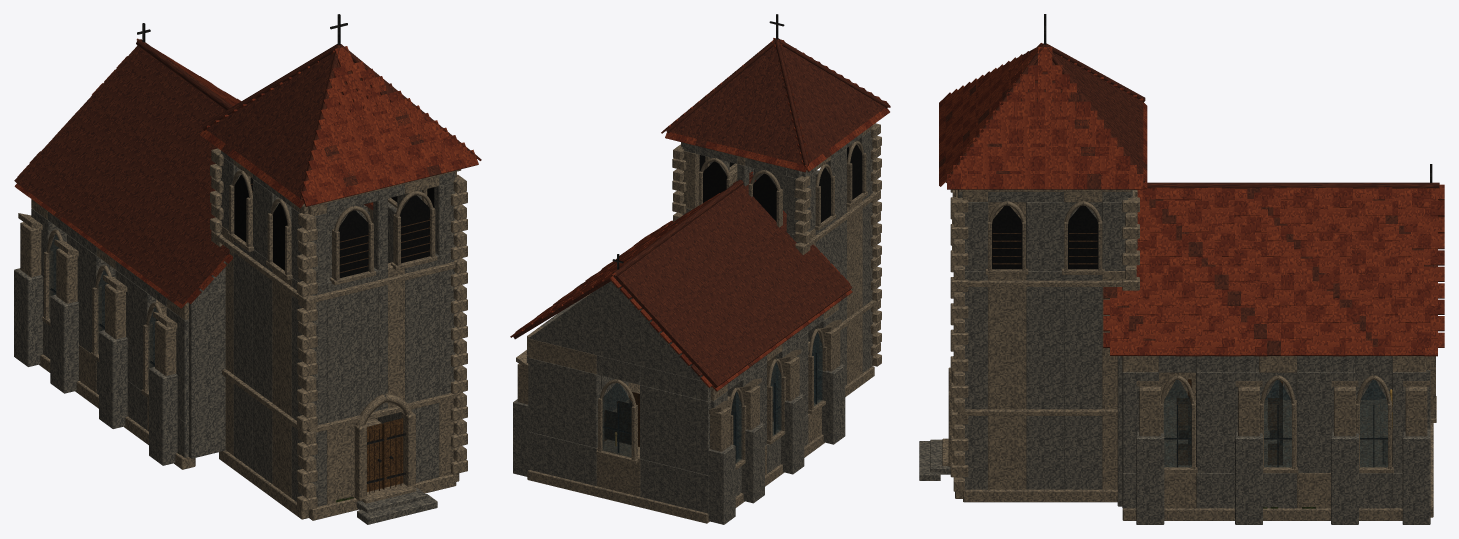
The model's file is medieval_village_church_3d_runtime.glb.
The picture shows the model from 3 angles, left to right: view 1: azimuth 30°, elevation 25°; view 2: azimuth 150°, elevation 25°; view 3: azimuth 270°, elevation 25°; orthographic projection. The views are drawn at different scales.
Parts seen in each view (by area): view 1: NAVE_ROOF_DECK_-1, TOWER_ROOF_TILES_TILE_A, TOWER_ROOF_DECK_LEFT, NAVE_FRONT_MASONRY_0_0, TOWER_ROOF_TILES_TILE_B, TOWER_FRONT_MASONRY_1_1, TOWER_FRONT_MASONRY_5_1, TOWER_LEFT_MASONRY_2_0, TOWER_LEFT_MASONRY_1_0, TOWER_LEFT_MASONRY_3_0, BUTTRESS_L_2_LOW, BUTTRESS_L_3_LOW (+56 smaller); view 2: NAVE_ROOF_DECK_-1, TOWER_ROOF_DECK_REAR, NAVE_REAR_GABLE, TOWER_ROOF_DECK_LEFT, NAVE_REAR_MASONRY_2_1, NAVE_REAR_MASONRY_0_1, NAVE_REAR_MASONRY_0_0, NAVE_REAR_MASONRY_2_0, TOWER_LEFT_MASONRY_1_0, NAVE_ROOF_TILES_TILE_A, BUTTRESS_L_3_LOW, NAVE_PLINTH_REAR (+40 smaller); view 3: NAVE_ROOF_TILES_TILE_A, NAVE_ROOF_TILES_TILE_B, TOWER_ROOF_TILES_TILE_A, TOWER_RIGHT_MASONRY_3_0, TOWER_RIGHT_MASONRY_1_0, TOWER_RIGHT_MASONRY_2_0, TOWER_ROOF_TILES_TILE_B, TOWER_RIGHT_MASONRY_0_0, NAVE_RIGHT_MASONRY_2_1, NAVE_RIGHT_MASONRY_4_1, TOWER_ROOF_DECK_REAR, NAVE_ROOF_TILES_TILE_DARK (+41 smaller).
Boxes of the visible parts, x1=… form: NAVE_ROOF_DECK_-1: x1=14, y1=45, x2=229, y2=304; TOWER_ROOF_TILES_TILE_A: x1=200, y1=46, x2=478, y2=203; TOWER_ROOF_DECK_LEFT: x1=206, y1=54, x2=333, y2=199; NAVE_FRONT_MASONRY_0_0: x1=188, y1=289, x2=225, y2=458; TOWER_ROOF_TILES_TILE_B: x1=201, y1=61, x2=481, y2=208; TOWER_FRONT_MASONRY_1_1: x1=327, y1=277, x2=361, y2=422; TOWER_FRONT_MASONRY_5_1: x1=405, y1=253, x2=439, y2=403; TOWER_LEFT_MASONRY_2_0: x1=253, y1=249, x2=272, y2=483; TOWER_LEFT_MASONRY_1_0: x1=272, y1=269, x2=291, y2=497; TOWER_LEFT_MASONRY_3_0: x1=233, y1=241, x2=252, y2=469; BUTTRESS_L_2_LOW: x1=50, y1=295, x2=78, y2=393; BUTTRESS_L_3_LOW: x1=14, y1=268, x2=42, y2=366; NAVE_ROOF_DECK_-1: x1=615, y1=178, x2=852, y2=388; TOWER_ROOF_DECK_REAR: x1=669, y1=46, x2=806, y2=165; NAVE_REAR_GABLE: x1=528, y1=281, x2=702, y2=380; TOWER_ROOF_DECK_LEFT: x1=781, y1=46, x2=885, y2=164; NAVE_REAR_MASONRY_2_1: x1=528, y1=357, x2=600, y2=447; NAVE_REAR_MASONRY_0_1: x1=640, y1=385, x2=710, y2=475; NAVE_REAR_MASONRY_0_0: x1=640, y1=459, x2=708, y2=513; NAVE_REAR_MASONRY_2_0: x1=528, y1=431, x2=596, y2=486; TOWER_LEFT_MASONRY_1_0: x1=847, y1=199, x2=862, y2=384; NAVE_ROOF_TILES_TILE_A: x1=510, y1=181, x2=852, y2=391; BUTTRESS_L_3_LOW: x1=708, y1=444, x2=735, y2=524; NAVE_PLINTH_REAR: x1=527, y1=470, x2=709, y2=523; NAVE_ROOF_TILES_TILE_A: x1=1103, y1=184, x2=1444, y2=356; NAVE_ROOF_TILES_TILE_B: x1=1103, y1=187, x2=1444, y2=356; TOWER_ROOF_TILES_TILE_A: x1=939, y1=43, x2=1147, y2=189; TOWER_RIGHT_MASONRY_3_0: x1=1064, y1=275, x2=1102, y2=489; TOWER_RIGHT_MASONRY_1_0: x1=988, y1=275, x2=1026, y2=489; TOWER_RIGHT_MASONRY_2_0: x1=1026, y1=271, x2=1063, y2=489; TOWER_ROOF_TILES_TILE_B: x1=939, y1=51, x2=1147, y2=189; TOWER_RIGHT_MASONRY_0_0: x1=962, y1=271, x2=987, y2=489; NAVE_RIGHT_MASONRY_2_1: x1=1196, y1=372, x2=1259, y2=472; NAVE_RIGHT_MASONRY_4_1: x1=1296, y1=372, x2=1355, y2=472; TOWER_ROOF_DECK_REAR: x1=1054, y1=53, x2=1143, y2=173; NAVE_ROOF_TILES_TILE_DARK: x1=1103, y1=188, x2=1437, y2=355.
Size of the model in its own units: 9.76 by 16.32 by 17.25.
Materials: 12 (12 with a texture image).
